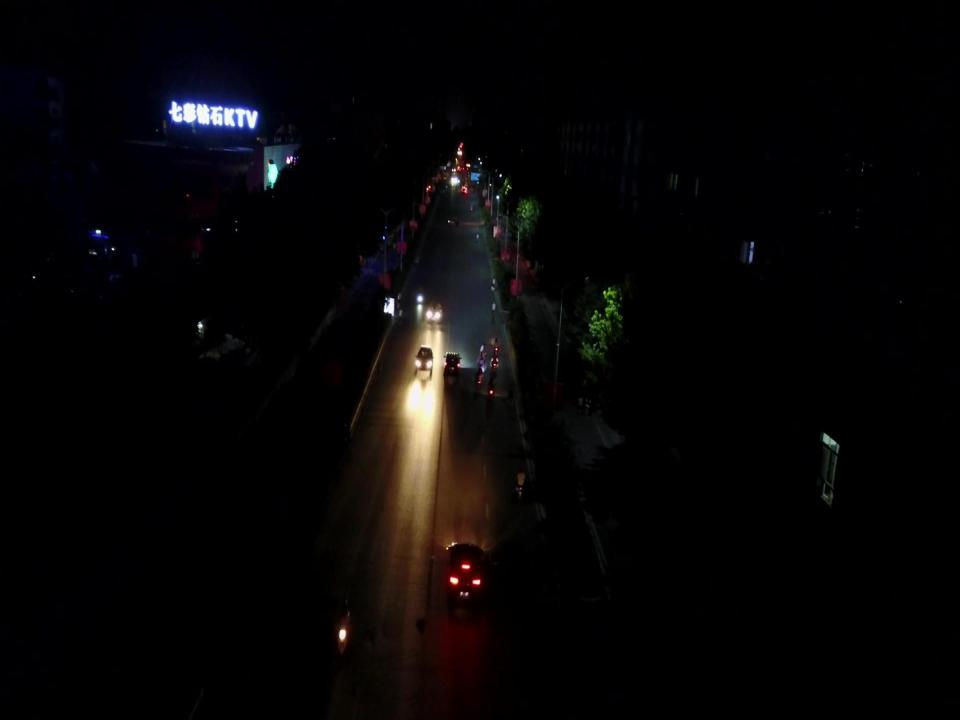car: (443, 537, 491, 614), (440, 346, 464, 381), (414, 342, 436, 380), (424, 299, 450, 330)
